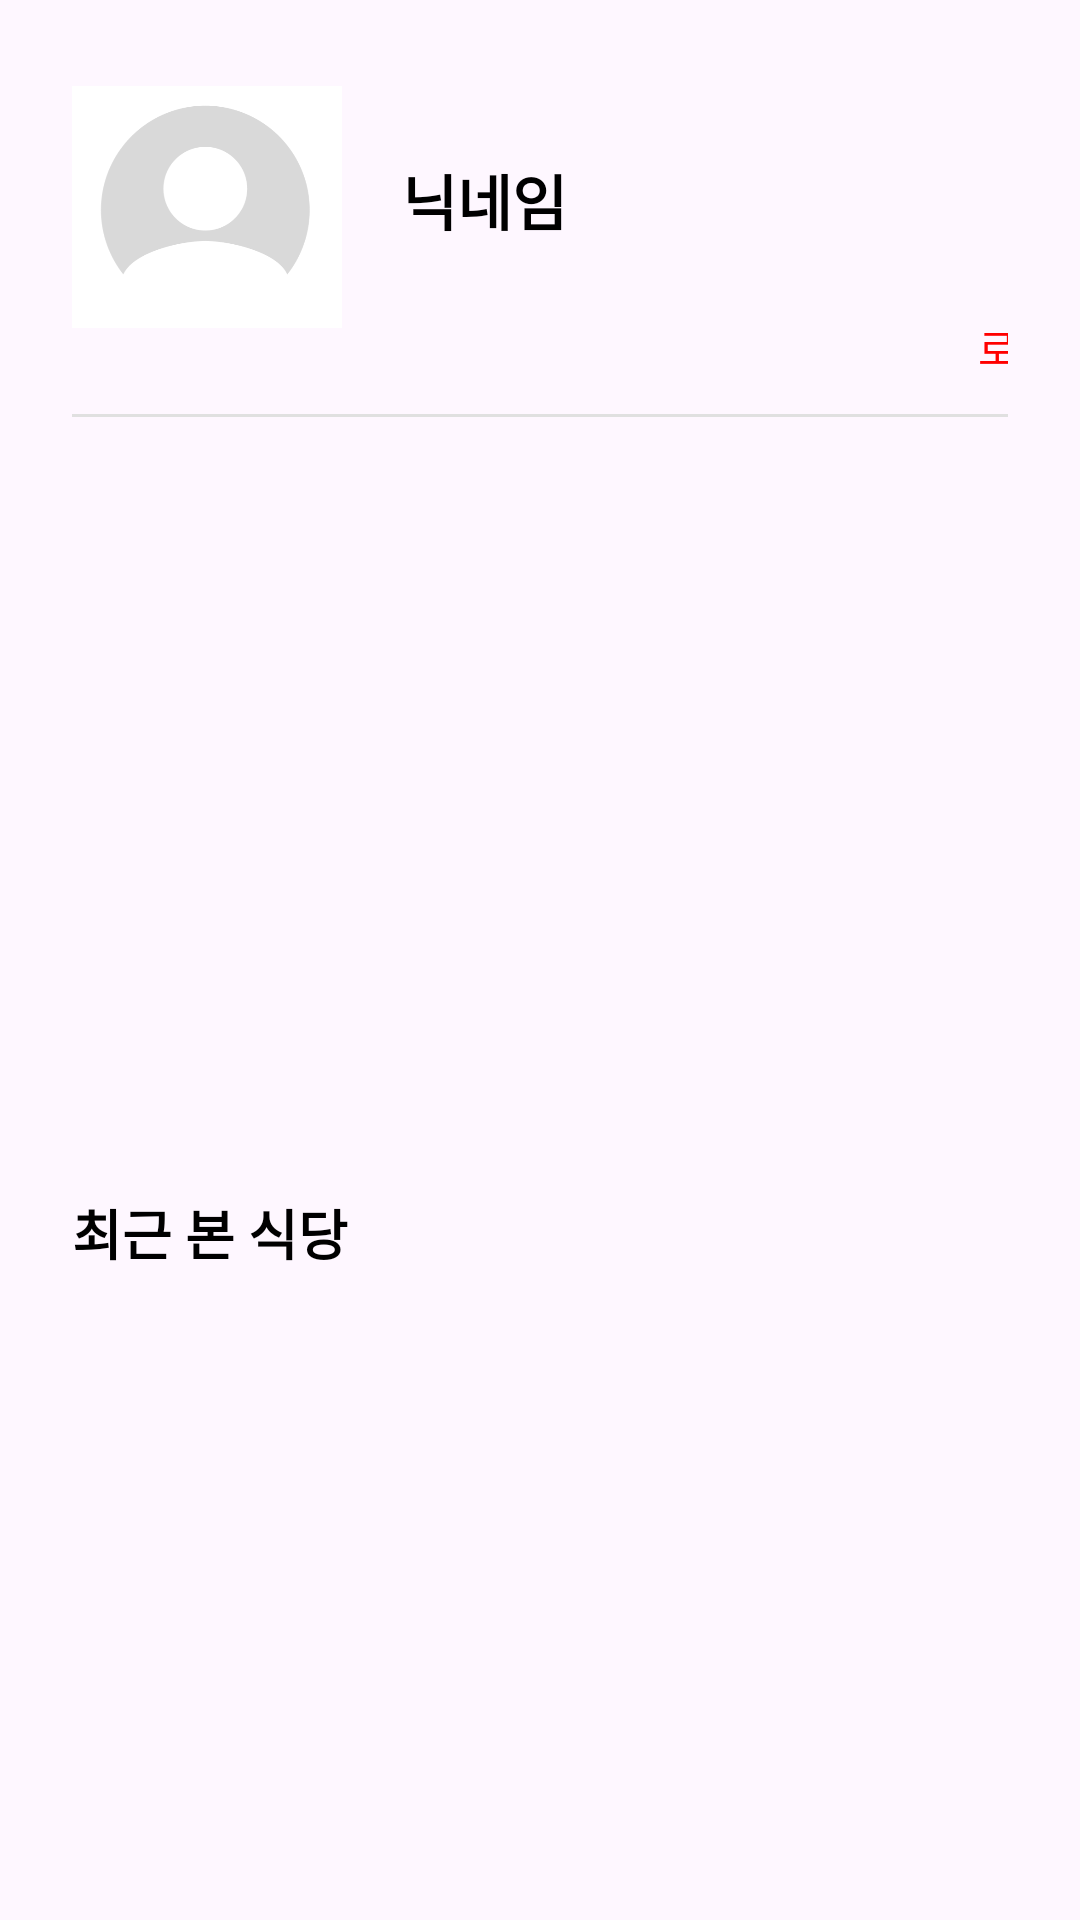

Screen size 1080px x 1920px. Icon name, then its center in pixels as [x,y]:
profile: [205,190]
